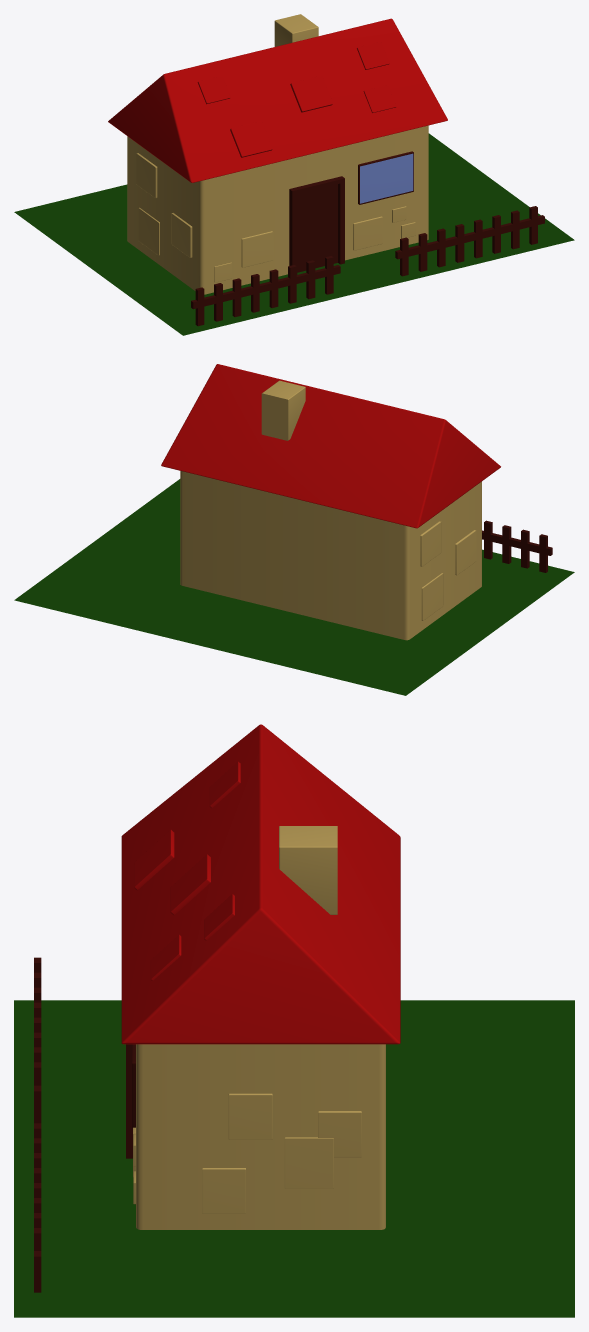
The model's file is house3.FBX.
3 views of the same model, one above another, from view 1: azimuth 30°, elevation 25°; view 2: azimuth 150°, elevation 25°; view 3: azimuth 270°, elevation 25° (orthographic). The views are drawn at different scales.
Visible parts, largest first — view 1: Box014; view 2: Box014; view 3: Box014.
Part boxes in pixels (bbox=[...]): Box014: bbox=[14, 14, 574, 335]; Box014: bbox=[14, 364, 574, 695]; Box014: bbox=[14, 724, 574, 1317].
Bounding box in the file's own units: 2141 × 1060 × 1600.
